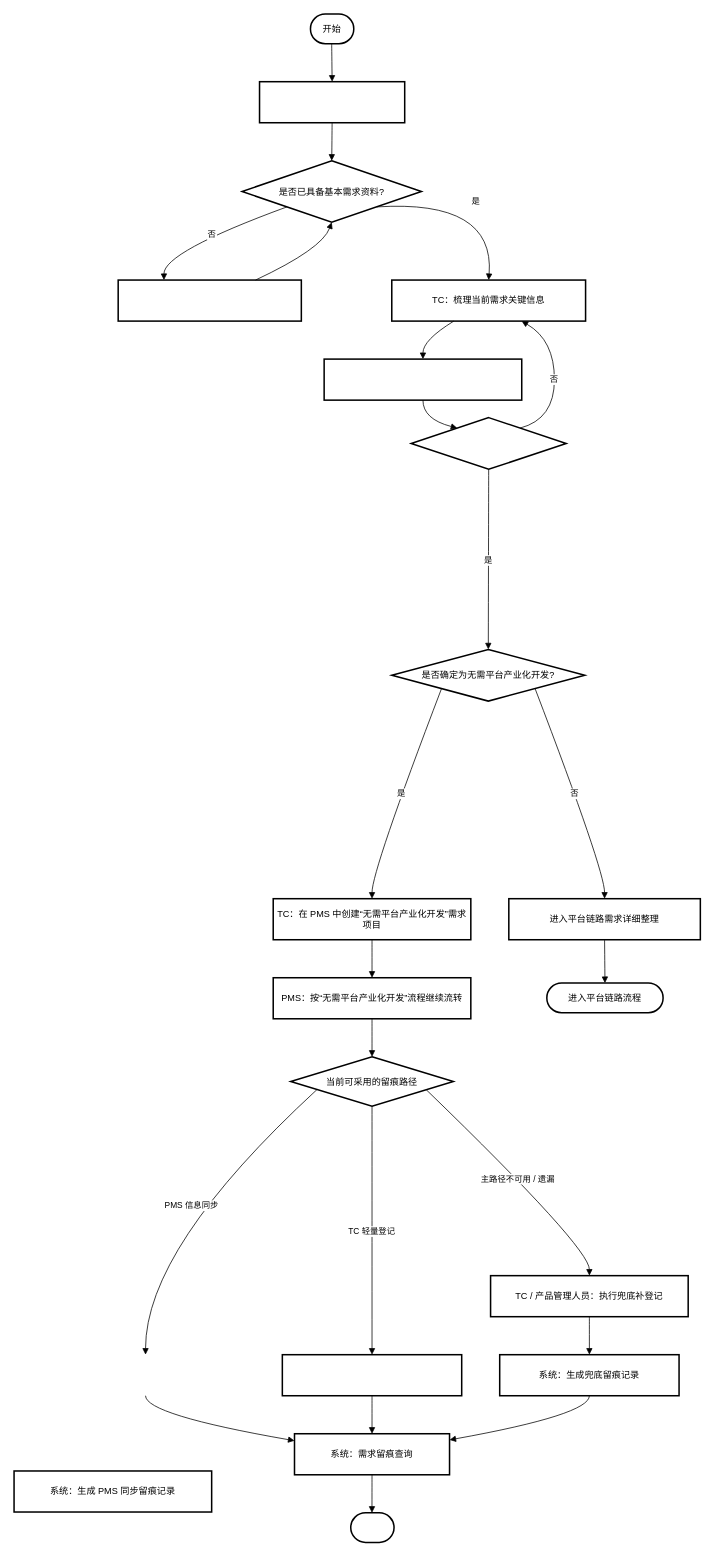
Some shapes in this 714 by 1556 pixel diagram are drawn without their labels. Each missing label, with the centre of its shape:
"TC：基于 PMS / 历史信息进行录入前路径判断" belongs at point (422, 379).
"TC：收集需求资料" belongs at point (331, 102).
"TC：补充资料 / 补充确认" belongs at point (209, 300).
"是否已具备判断依据?" belongs at point (488, 443).
"系统：生成轻量留痕记录" belongs at point (371, 1375).
"结束" belongs at point (372, 1527).
